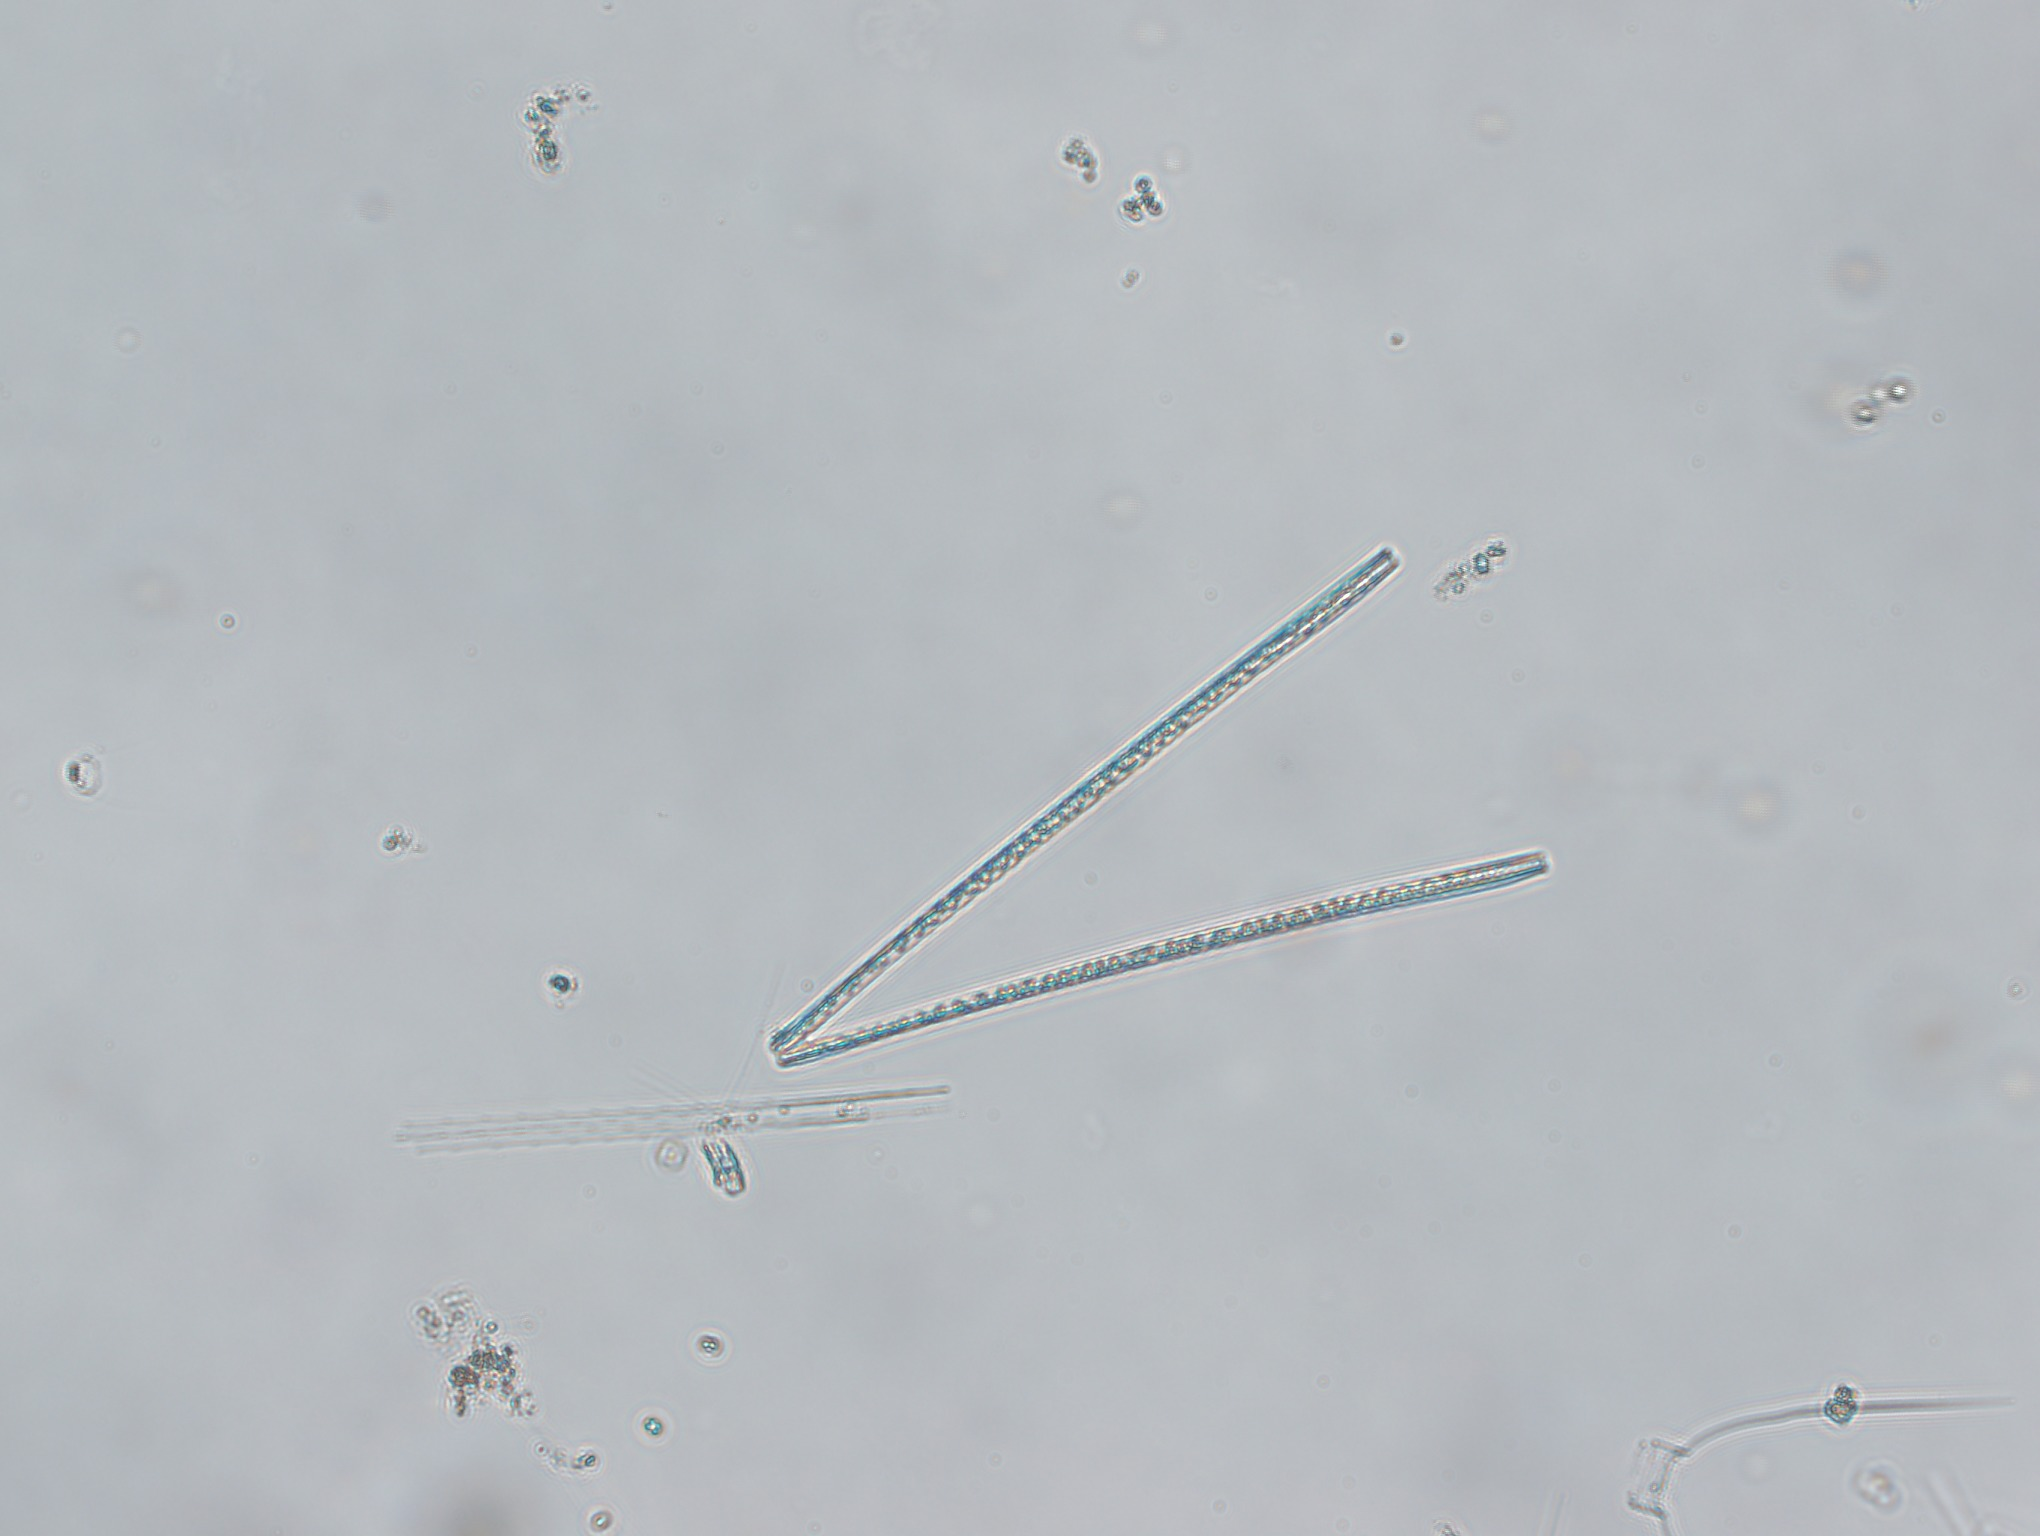thalassionema frauenfeldii: (756, 541, 1563, 1076)
